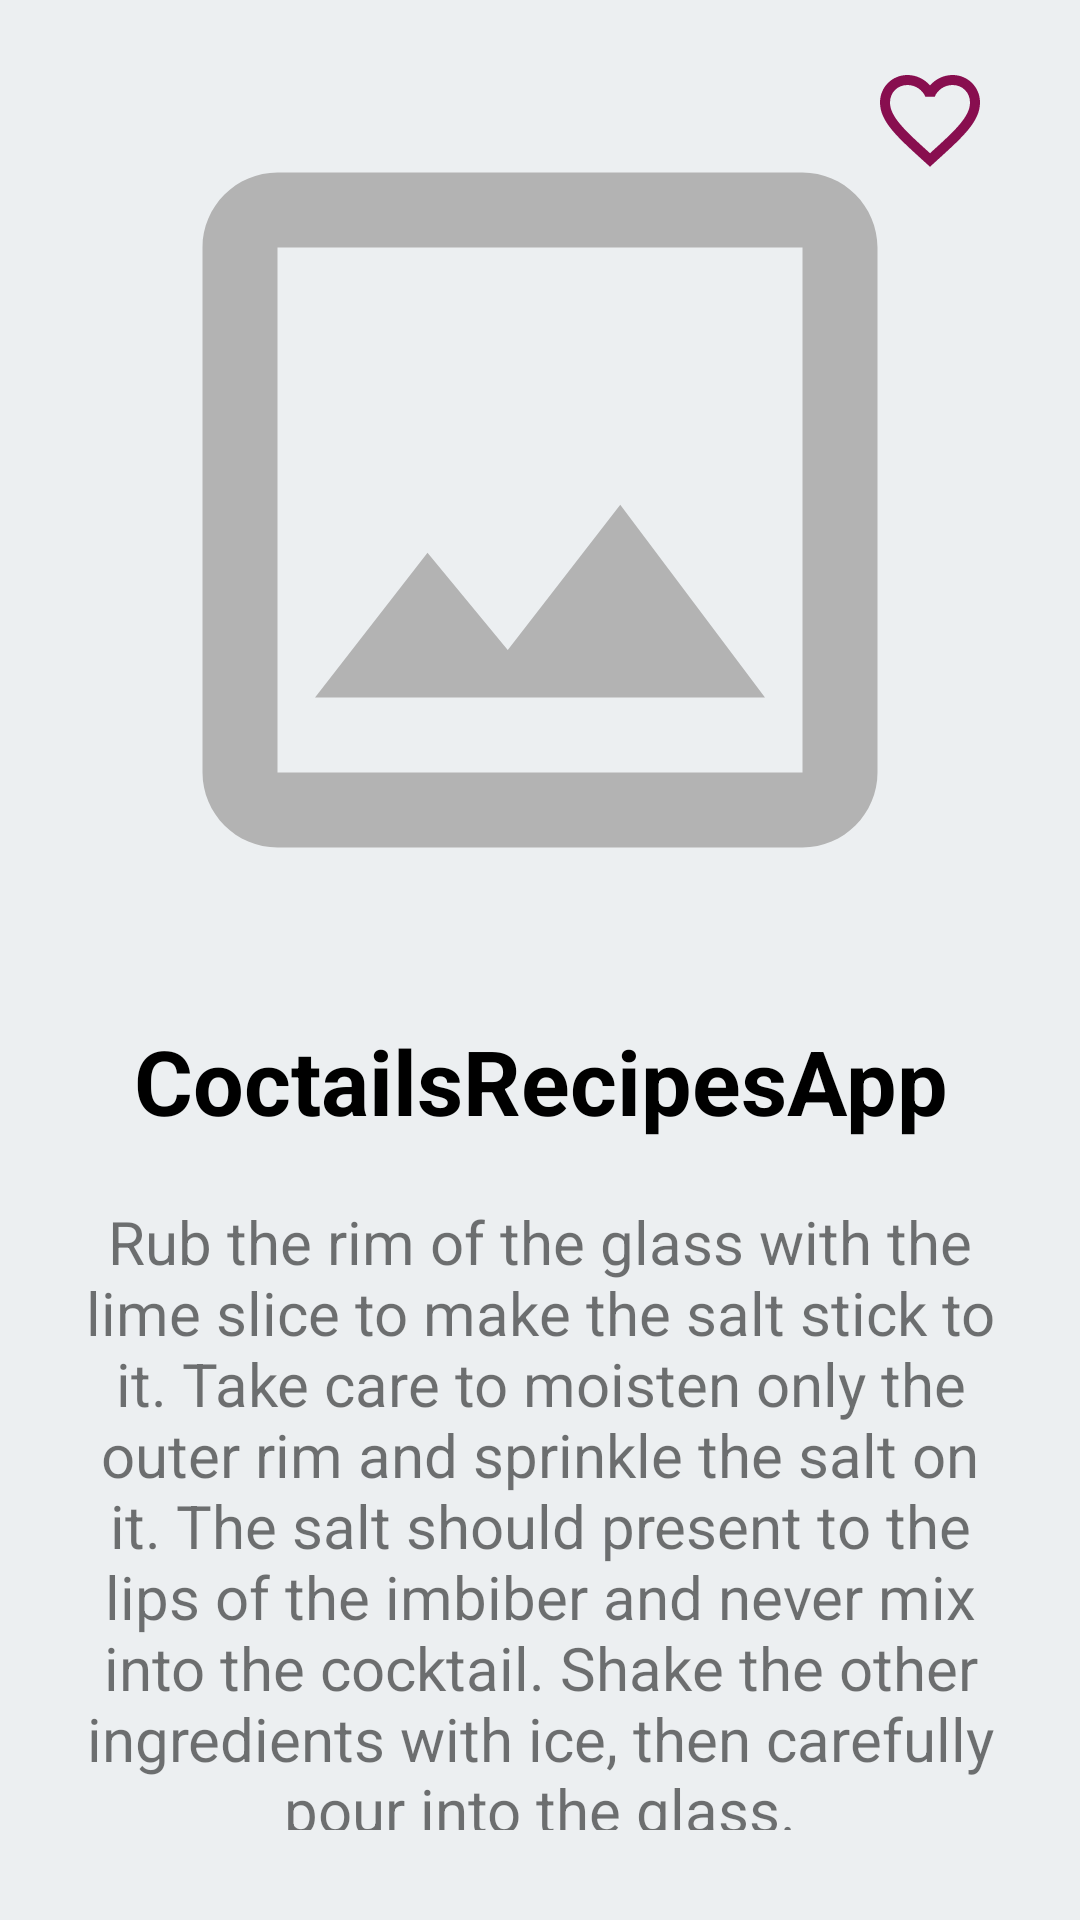

Icons on this 1080px×1920px Android screen, each with the point to tap as [x,y]:
favourite: [930,121]
